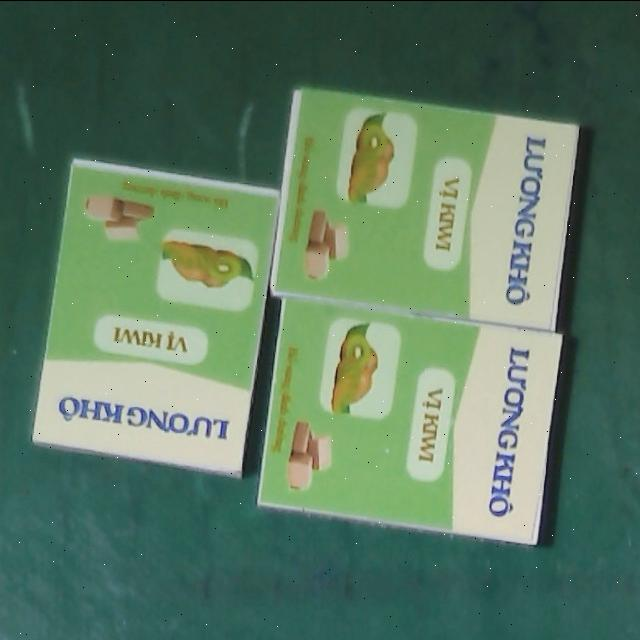kiwi: (30, 160, 283, 477), (267, 84, 582, 331), (258, 299, 566, 546)
